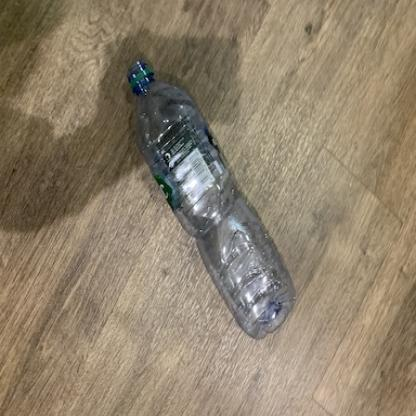trash: (126, 61, 299, 340)
